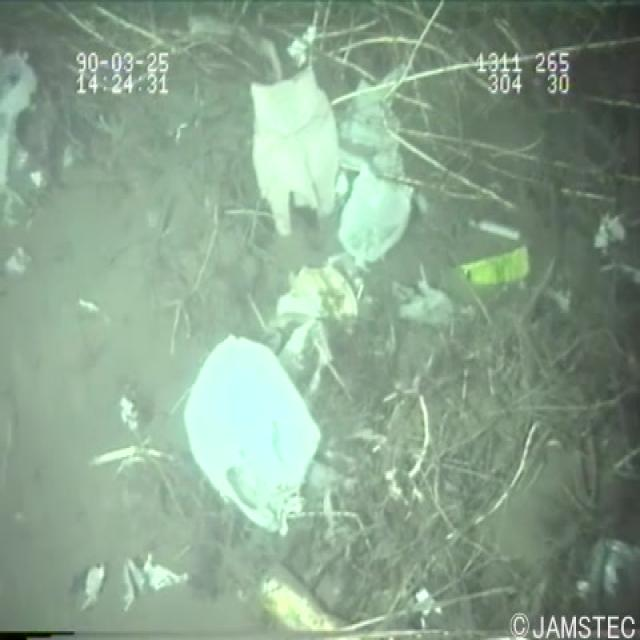plastic: (239, 64, 421, 272), (177, 327, 323, 549)
